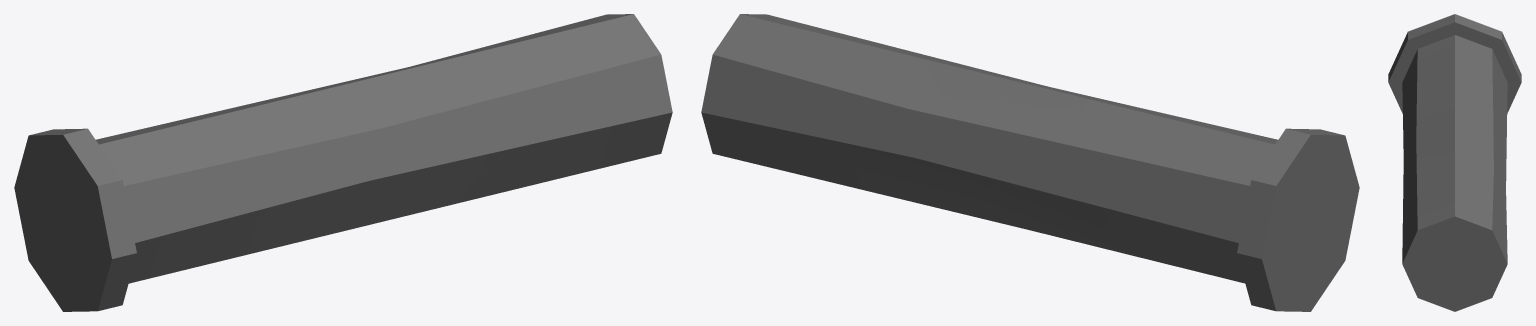
Rendered from SM_Gen_Bld_Pipe_Straight_03.glb.
3 views of the same model, side by side, from view 1: azimuth 30°, elevation 25°; view 2: azimuth 150°, elevation 25°; view 3: azimuth 270°, elevation 25° (orthographic). The views are drawn at different scales.
Parts seen in each view (by area): view 1: SM_Gen_Bld_Pipe_Straight_03; view 2: SM_Gen_Bld_Pipe_Straight_03; view 3: SM_Gen_Bld_Pipe_Straight_03.
Boxes of the visible parts, x1,y1,x2,y2 form: SM_Gen_Bld_Pipe_Straight_03: (14, 14, 672, 311); SM_Gen_Bld_Pipe_Straight_03: (701, 14, 1359, 311); SM_Gen_Bld_Pipe_Straight_03: (1388, 14, 1521, 311).
Bounding box in the file's own units: 1.28 × 0.379 × 0.379.
Materials: 1 (1 with a texture image).
